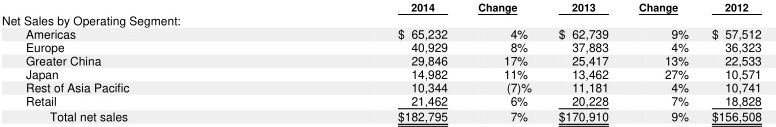column: (3, 1, 181, 126), (477, 1, 532, 126), (396, 1, 449, 127), (559, 1, 610, 127), (711, 1, 762, 127), (638, 1, 689, 126)
row: (1, 15, 775, 27), (1, 83, 776, 94), (1, 96, 776, 107), (1, 112, 776, 123), (1, 2, 776, 12), (1, 43, 776, 53), (1, 56, 776, 66), (1, 70, 776, 80), (1, 30, 776, 39)
